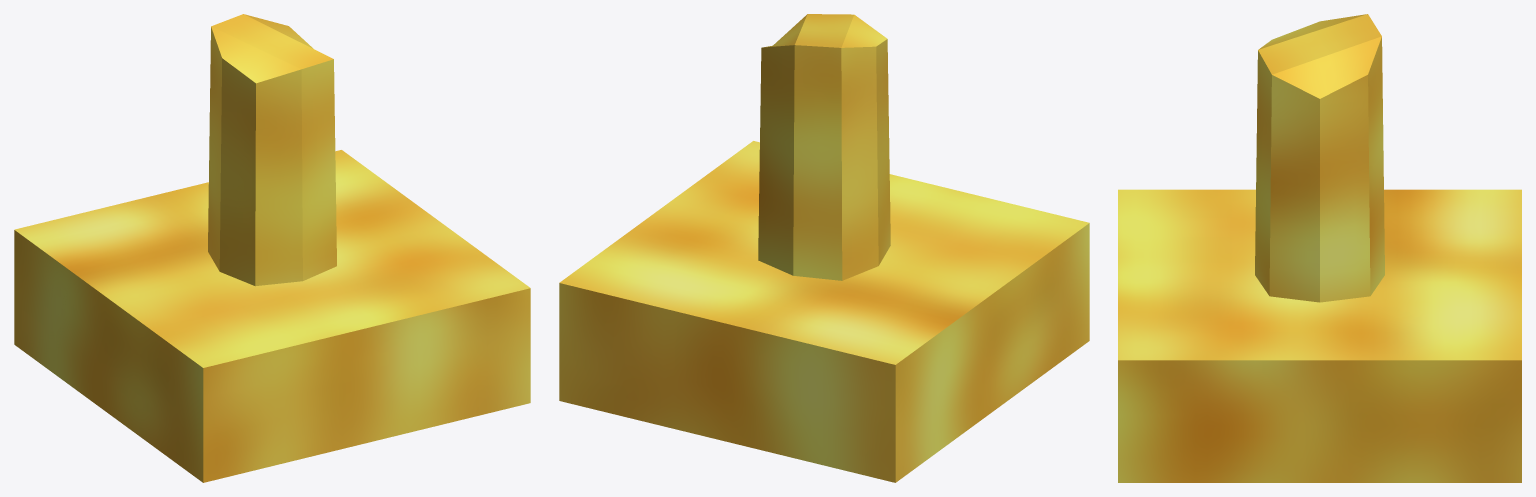
The model's file is Pillar Destroyed 1.fbx.
The picture shows the model from 3 angles, left to right: view 1: azimuth 30°, elevation 25°; view 2: azimuth 150°, elevation 25°; view 3: azimuth 270°, elevation 25°; orthographic projection. The views are drawn at different scales.
Visible parts, largest first — view 1: 2x1 Pillar destroyed 2; view 2: 2x1 Pillar destroyed 2; view 3: 2x1 Pillar destroyed 2.
Boxes of the visible parts, box(x1,y1,x2,y2) form: 2x1 Pillar destroyed 2: box(14, 14, 530, 482); 2x1 Pillar destroyed 2: box(559, 14, 1089, 482); 2x1 Pillar destroyed 2: box(1118, 14, 1521, 482).
Bounding box in the file's own units: 200 × 199 × 200.
1 material, 1 textured.
